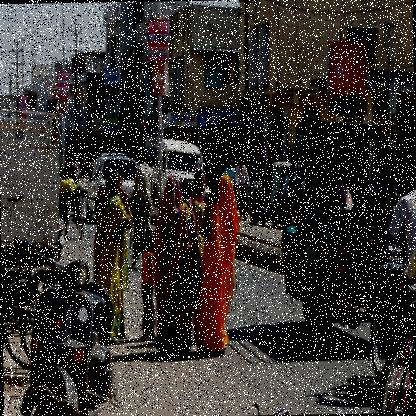Car: (86, 156, 140, 218)
